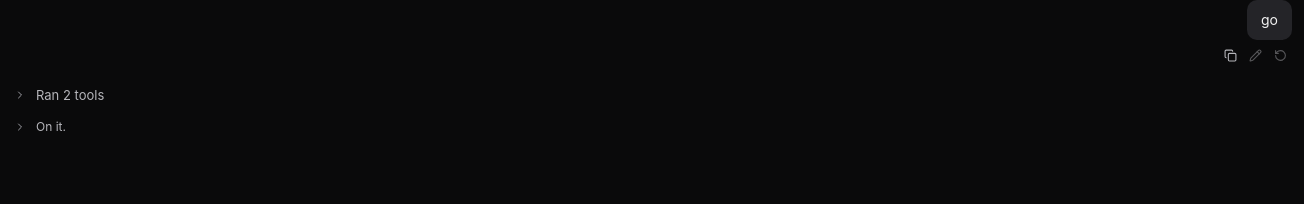
Test: AgentTimeline › summarizes a tool group at rest and opens it in place
Expected: the text "src/a.ts" is not shown
Click the button "Ran 2 tools": [70, 95] box [12,81,1292,109]
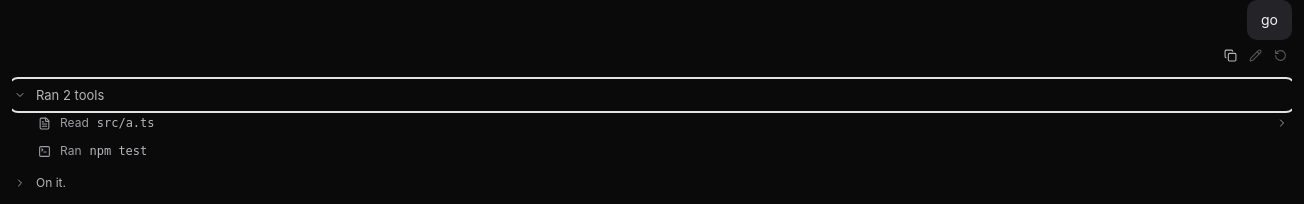
Expected: the text "src/a.ts" is shown, [97,114,155,132]
Expected: the text "npm test" is shown, [90,142,147,160]
